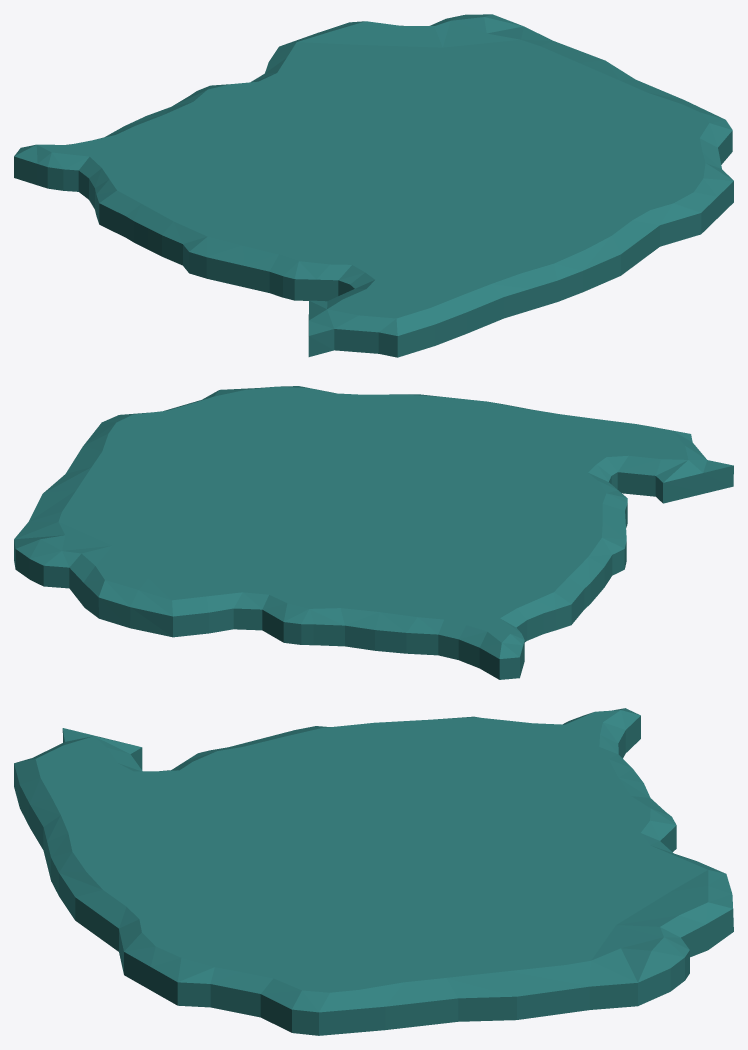
File: Border.fbx
3 views of the same model, one above another, from view 1: azimuth 30°, elevation 25°; view 2: azimuth 150°, elevation 25°; view 3: azimuth 270°, elevation 25° (orthographic). The views are drawn at different scales.
Parts seen in each view (by area): view 1: Border_30, Border_29, Border_26, Border_21, Border_27, Border_24, Border_22, Border_28, Border_02, Border_23, Border_25, Border_20 (+8 smaller); view 2: Border_21, Border_30, Border_29, Border_26, Border_27, Border_24, Border_22, Border_23, Border_25, Border_28, Border_02, Border_20 (+9 smaller); view 3: Border_24, Border_30, Border_29, Border_26, Border_27, Border_21, Border_22, Border_25, Border_28, Border_23, Border_02, Border_20 (+8 smaller).
Part boxes in pixels (x1,y1,x2,y2): Border_30: (222,192,578,288); Border_29: (126,145,419,260); Border_26: (284,71,569,168); Border_21: (14,101,283,215); Border_27: (347,118,660,208); Border_24: (429,14,661,118); Border_22: (172,57,391,145); Border_28: (507,163,733,253); Border_02: (414,219,620,311); Border_23: (269,19,450,96); Border_25: (570,91,732,169); Border_20: (309,280,466,335); Border_21: (340,554,583,658); Border_30: (386,414,627,532); Border_29: (384,483,626,588); Border_26: (166,466,399,554); Border_27: (191,409,410,520); Border_24: (14,451,190,565); Border_22: (198,540,383,625); Border_23: (44,539,233,616); Border_25: (75,396,248,465); Border_28: (202,386,410,444); Border_02: (387,394,605,439); Border_20: (596,419,733,482); Border_24: (388,906,689,1002); Border_30: (93,734,303,885); Border_29: (272,719,483,836); Border_26: (359,808,570,937); Border_27: (214,821,395,952); Border_21: (431,708,650,808); Border_22: (484,796,695,877); Border_25: (210,937,416,1012); Border_28: (75,863,223,983); Border_23: (534,857,732,949); Border_02: (30,782,158,896); Border_20: (14,728,142,803).
Size of the model in its own units: 49522 by 2852 by 49512.
